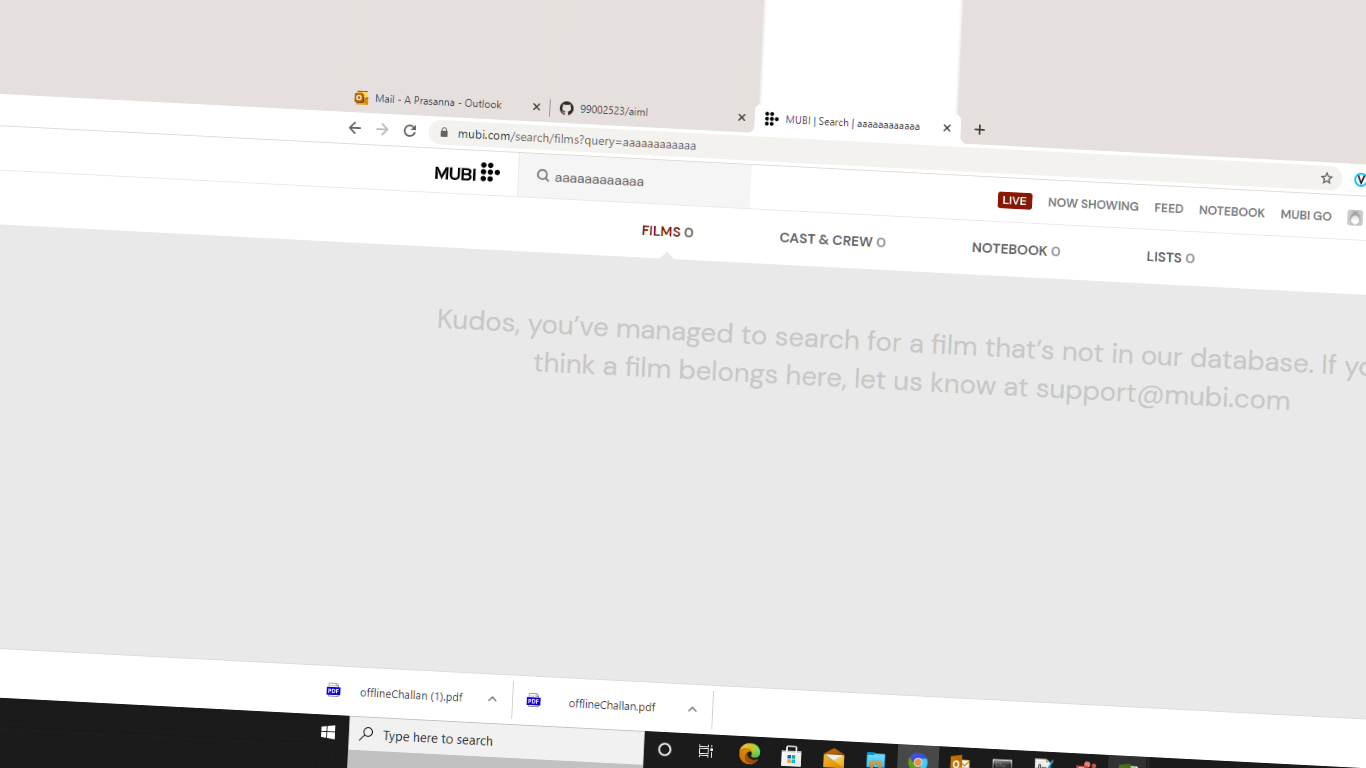noresultsfound: (422, 279, 1366, 440)
searchicon: (533, 157, 552, 188)
searchtextbox: (514, 152, 760, 200)
